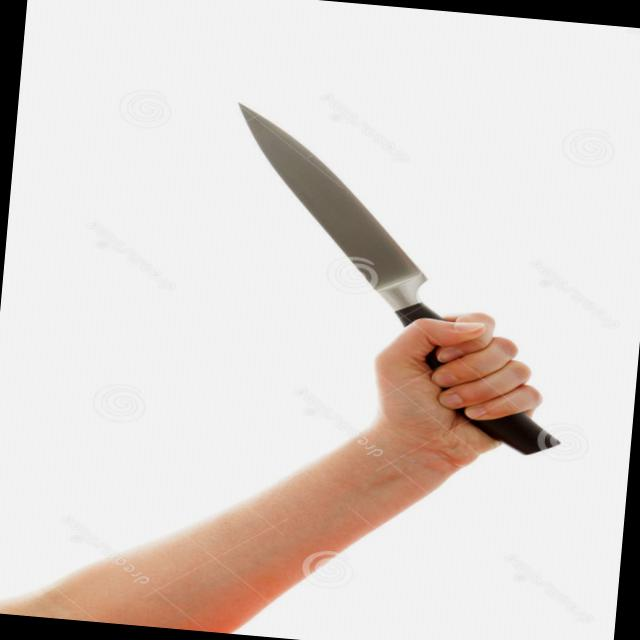knife: (205, 91, 537, 405)
